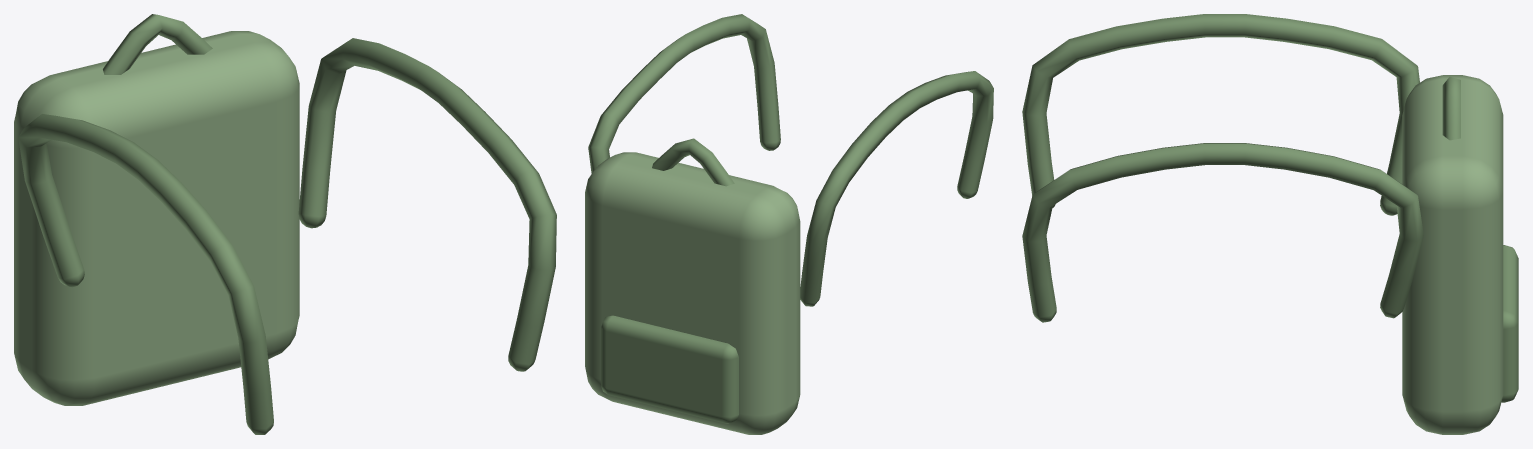
The model's file is basket_pack.glb.
3 renders of one model, left to right at view 1: azimuth 30°, elevation 25°; view 2: azimuth 150°, elevation 25°; view 3: azimuth 270°, elevation 25°, orthographic. The views are drawn at different scales.
Parts seen in each view (by area): view 1: basket_pack_Body; view 2: basket_pack_Body; view 3: basket_pack_Body.
Boxes of the visible parts, left/top/right/bottom form: basket_pack_Body: left=14, top=14, right=556, bottom=434; basket_pack_Body: left=585, top=14, right=993, bottom=434; basket_pack_Body: left=1022, top=14, right=1518, bottom=434.
Bounding box in the file's own units: 0.327 × 0.3445 × 0.4902.
